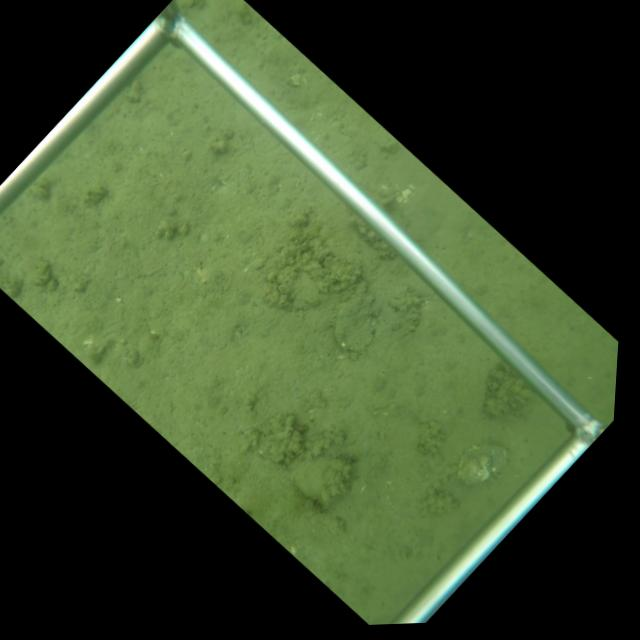Oyster-Indeterminate: (329, 277, 380, 356), (289, 454, 355, 512), (454, 440, 507, 488)
